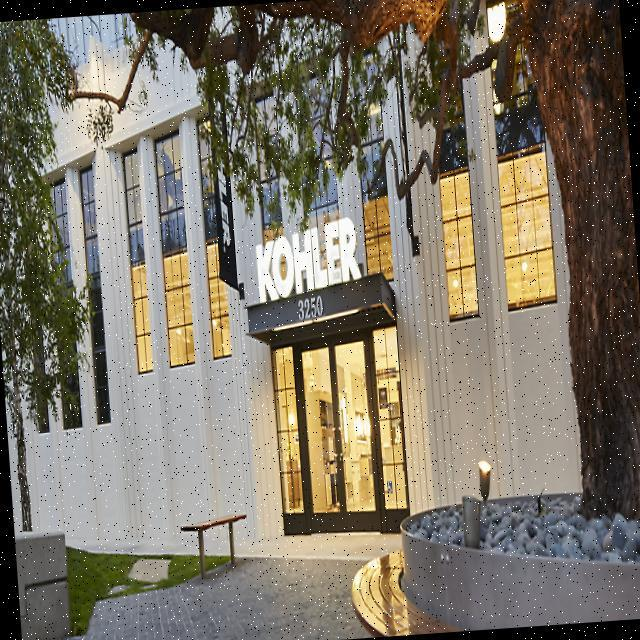Kohler: (251, 212, 363, 310)
